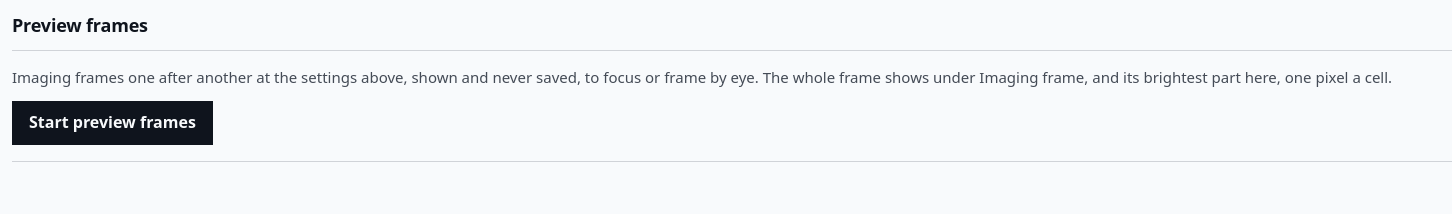
Test: the Preview frames block: frames, stopping and starting › stops at once with the route's words when the POST is refused
The image size is (1452, 214).
Click the button "Start preview frames" at (112, 123), box [12,101,213,145]
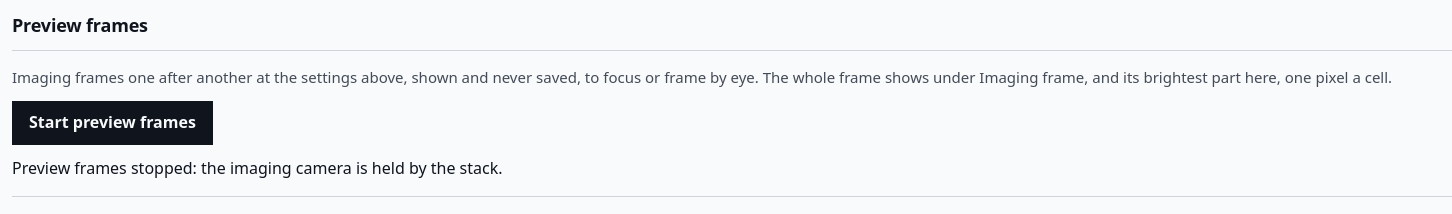
Now the message reads "Preview frames stopped: the imaging camera is held by the stack.", box [12,157,502,179]
